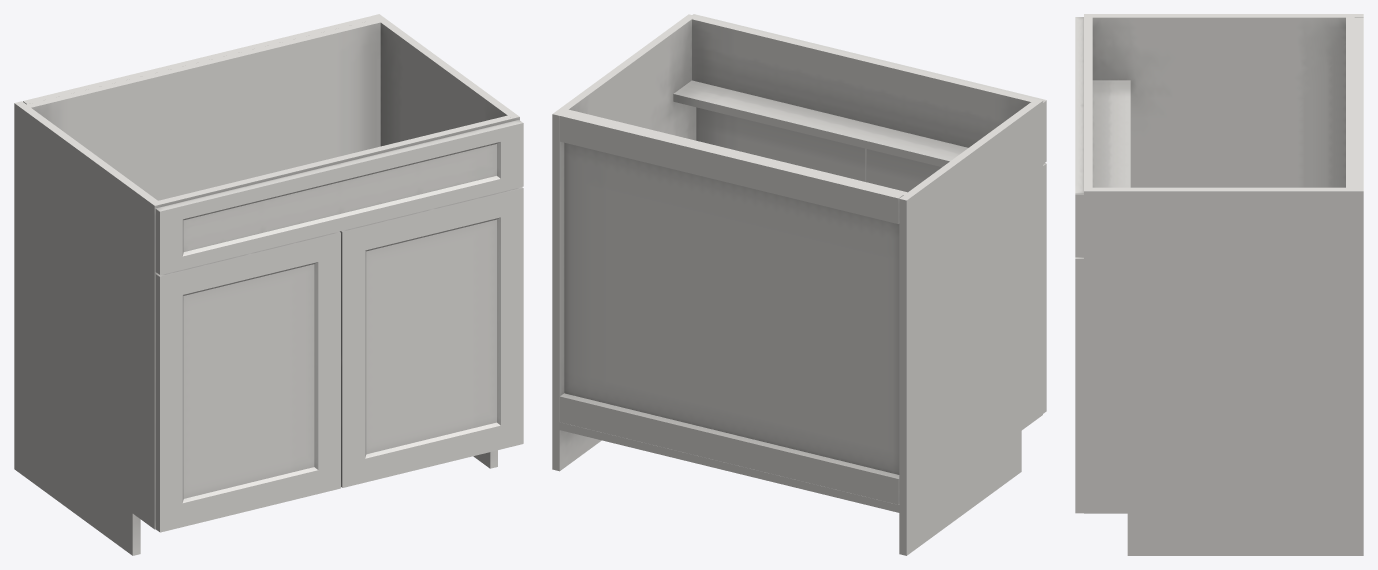
The model's file is sink-base-false-drawer-doors-on.glb.
The picture shows the model from 3 angles, left to right: view 1: azimuth 30°, elevation 25°; view 2: azimuth 150°, elevation 25°; view 3: azimuth 270°, elevation 25°; orthographic projection. The views are drawn at different scales.
Visible parts, largest first — view 1: part_9, part_0; view 2: part_0, part_9; view 3: part_0, part_9.
Part boxes in pixels (x1,y1,x2,y2): part_9: [155, 120, 523, 532]; part_0: [14, 14, 519, 555]; part_0: [552, 14, 1042, 555]; part_9: [692, 14, 1046, 413]; part_0: [1084, 14, 1363, 555]; part_9: [1075, 17, 1083, 513].
Bounding box in the file's own units: 0.9144 × 0.8763 × 0.6287.
Materials: 2 (2 with a texture image).
